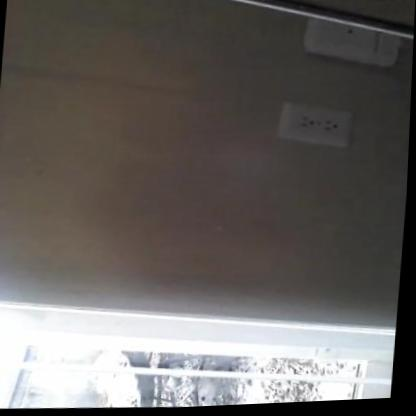OUTLET: (281, 103, 351, 144)
